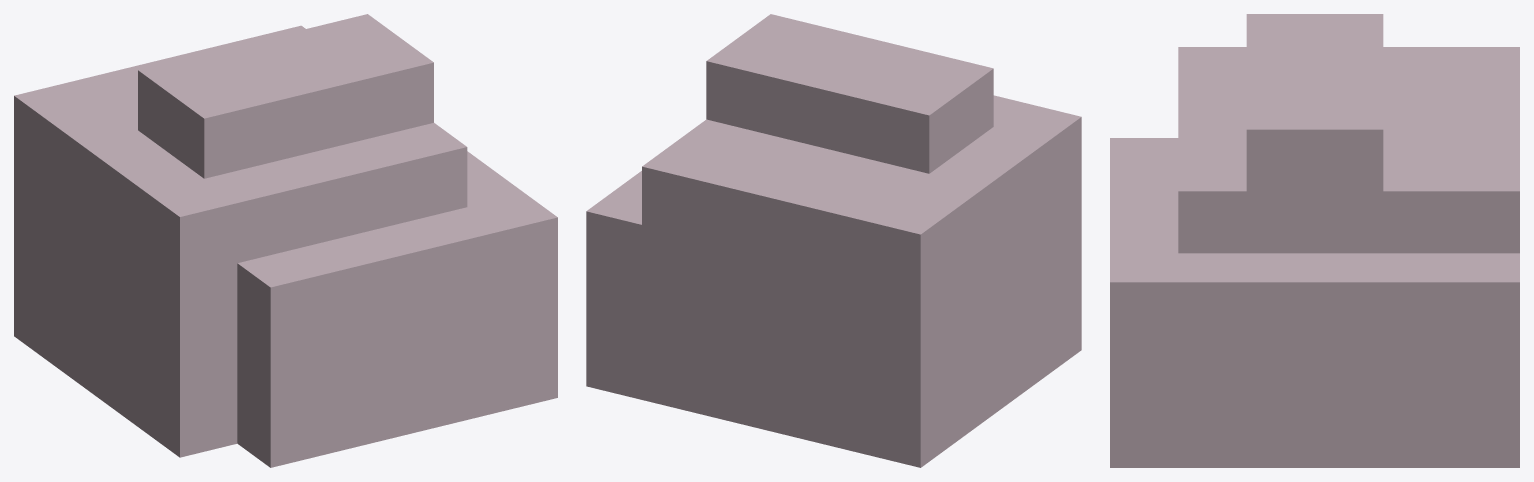
The model's file is rock.gltf.
The picture shows the model from 3 angles, left to right: view 1: azimuth 30°, elevation 25°; view 2: azimuth 150°, elevation 25°; view 3: azimuth 270°, elevation 25°; orthographic projection. The views are drawn at different scales.
Visible parts, largest first — view 1: rock_aus; view 2: rock_aus; view 3: rock_aus.
Part boxes in pixels (box(x1,y1,x2,y2)): rock_aus: box(14, 14, 557, 467); rock_aus: box(586, 14, 1081, 467); rock_aus: box(1110, 14, 1519, 467).
Bounding box in the file's own units: 0.75 × 0.625 × 0.75.
Materials: 1 (1 with a texture image).
